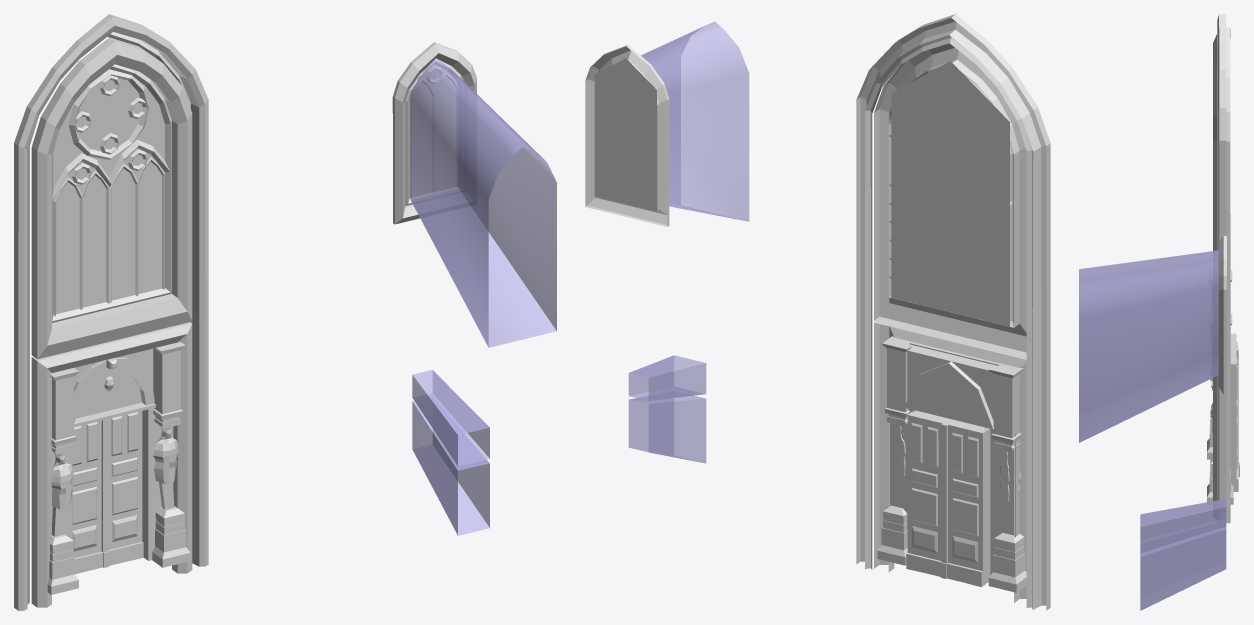
Rendered from PortaEJanelasHall.fbx.
The picture shows the model from 3 angles, left to right: view 1: azimuth 30°, elevation 25°; view 2: azimuth 150°, elevation 25°; view 3: azimuth 270°, elevation 25°; orthographic projection. The views are drawn at different scales.
Parts seen in each view (by area): view 1: MolduraJanelaPortaHall, VolumetriaFalsa, JanelaHallGrande, JanelaHallGrandeVidro, PortaHall, VolumetriaFalsaEscritorio, MolduraPortaHall, JanelaHallPequena, JanelaHallPequenaVidro, ColunaPortaCima, ColunaPortaBaixo, EstatuaF (+1 smaller); view 2: MolduraJanelaPortaHall, JanelaHallGrandeVidro, JanelaHallGrande, VolumetriaFalsa, PortaHall, MolduraPortaHall, JanelaHallPequenaVidro, VolumetriaFalsaEscritorio, JanelaHallPequena, ColunaPortaCima, ColunaPortaBaixo; view 3: VolumetriaFalsa, VolumetriaFalsaEscritorio, MolduraJanelaPortaHall, JanelaHallPequena, JanelaHallGrande, MolduraPortaHall, PortaHall, ColunaPortaBaixo.
Boxes of the visible parts, box(x1,y1,x2,y2) form: MolduraJanelaPortaHall: box(14, 14, 208, 610); VolumetriaFalsa: box(410, 59, 556, 347); JanelaHallGrande: box(31, 37, 192, 359); JanelaHallGrandeVidro: box(53, 69, 164, 313); PortaHall: box(72, 411, 143, 574); VolumetriaFalsaEscritorio: box(412, 370, 489, 535); MolduraPortaHall: box(52, 348, 173, 560); JanelaHallPequena: box(392, 42, 476, 224); JanelaHallPequenaVidro: box(411, 64, 456, 197); ColunaPortaCima: box(50, 342, 185, 454); ColunaPortaBaixo: box(47, 506, 190, 594); EstatuaF: box(153, 427, 178, 509); MolduraJanelaPortaHall: box(856, 14, 1050, 610); JanelaHallGrandeVidro: box(891, 61, 1009, 326); JanelaHallGrande: box(874, 43, 1026, 357); VolumetriaFalsa: box(641, 21, 749, 221); PortaHall: box(906, 414, 985, 587); MolduraPortaHall: box(890, 343, 1015, 584); JanelaHallPequenaVidro: box(594, 58, 656, 211); VolumetriaFalsaEscritorio: box(628, 355, 706, 463); JanelaHallPequena: box(585, 45, 669, 226); ColunaPortaCima: box(882, 336, 1023, 452); ColunaPortaBaixo: box(877, 505, 1026, 592); VolumetriaFalsa: box(1079, 250, 1218, 442); VolumetriaFalsaEscritorio: box(1140, 499, 1226, 610); MolduraJanelaPortaHall: box(1213, 14, 1230, 523); JanelaHallPequena: box(1218, 236, 1226, 394); JanelaHallGrande: box(1213, 34, 1217, 250); MolduraPortaHall: box(1230, 300, 1235, 491); PortaHall: box(1232, 333, 1239, 491); ColunaPortaBaixo: box(1207, 410, 1233, 504).
Bounding box in the file's own units: 9.93 × 11.75 × 3.6.
